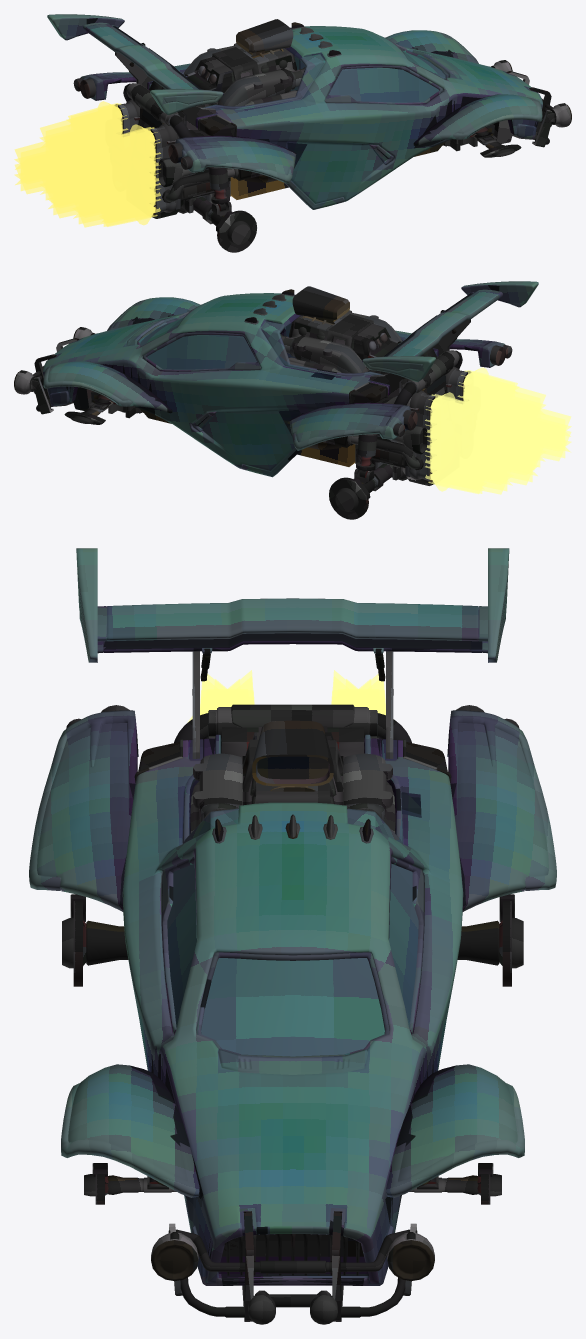
File: Octane_ThreeWheel_Variant.glb
The picture shows the model from 3 angles, top to bottom: view 1: azimuth 30°, elevation 25°; view 2: azimuth 150°, elevation 25°; view 3: azimuth 270°, elevation 25°; orthographic projection. The views are drawn at different scales.
Parts seen in each view (by area): view 1: Octane_ThreeWheel_Variant; view 2: Octane_ThreeWheel_Variant; view 3: Octane_ThreeWheel_Variant.
Boxes of the visible parts, x1=… form: Octane_ThreeWheel_Variant: x1=14, y1=14, x2=571, y2=252; Octane_ThreeWheel_Variant: x1=14, y1=281, x2=571, y2=519; Octane_ThreeWheel_Variant: x1=29, y1=548, x2=556, y2=1324.
Size of the model in its own units: 1.6 by 0.5463 by 0.7256.
6 materials, 5 textured.
